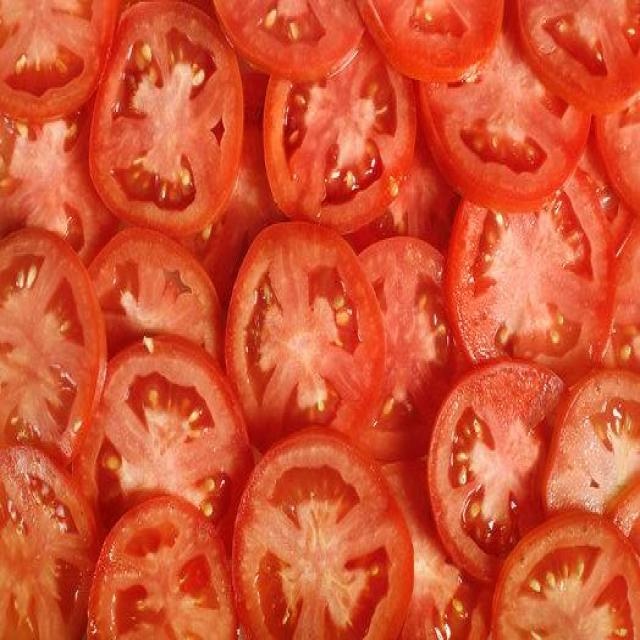Tomato: (232, 426, 409, 633), (227, 223, 384, 452), (450, 171, 612, 392), (94, 2, 248, 229), (407, 34, 595, 198), (92, 338, 242, 528), (267, 48, 421, 229), (424, 367, 555, 572), (0, 233, 103, 466), (89, 490, 234, 640), (83, 238, 230, 370), (498, 516, 640, 638)
